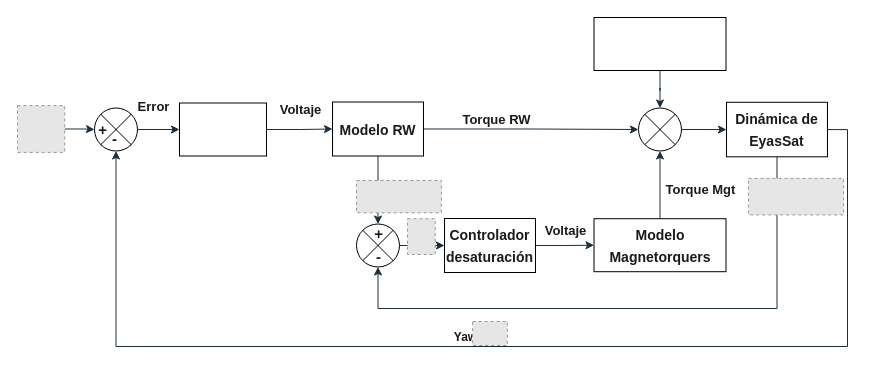
This 873x372 diagram has some shape labels left out. Grey dashed boxes stand in for pictures. Here are the shapes that lost their labels. From the top down, the centre of each, then its label:
the point at 659,43: Perturbaciones
the point at 222,129: Controlador Actitud
